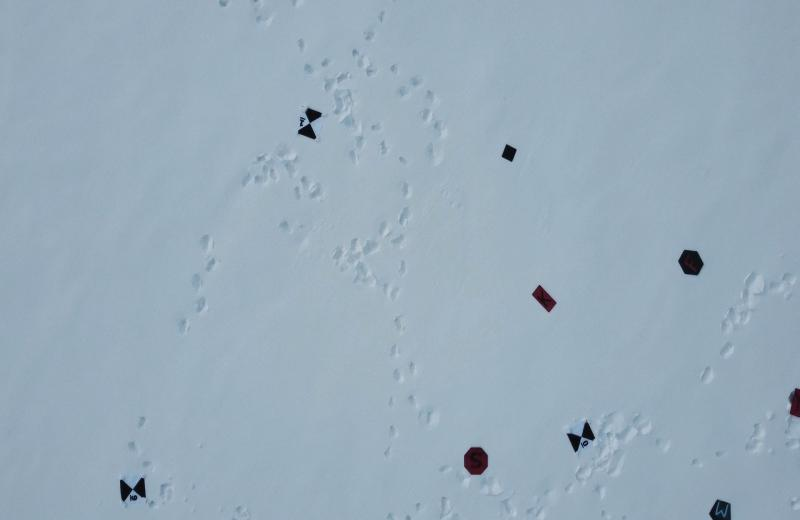Hexagon: (676, 244, 706, 282)
Octagon: (462, 442, 493, 476)
Pentagon: (707, 494, 735, 520)
Rectangle: (530, 282, 559, 316)
Square: (498, 142, 520, 166)
